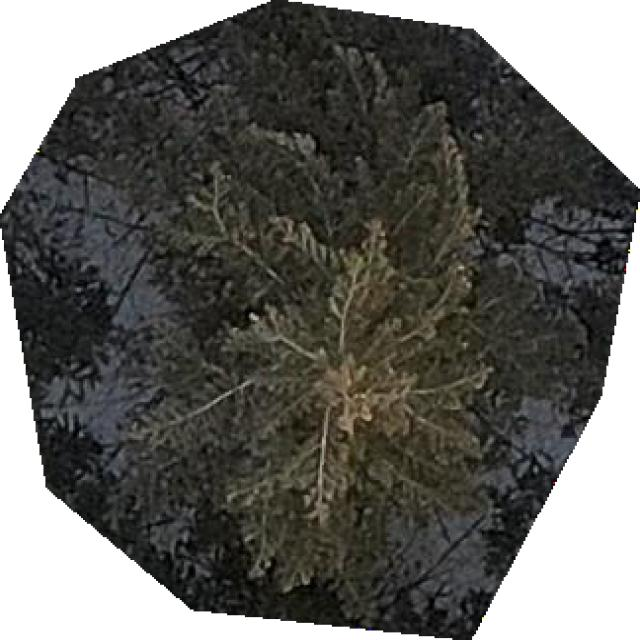spruce: (0, 0, 638, 638)
